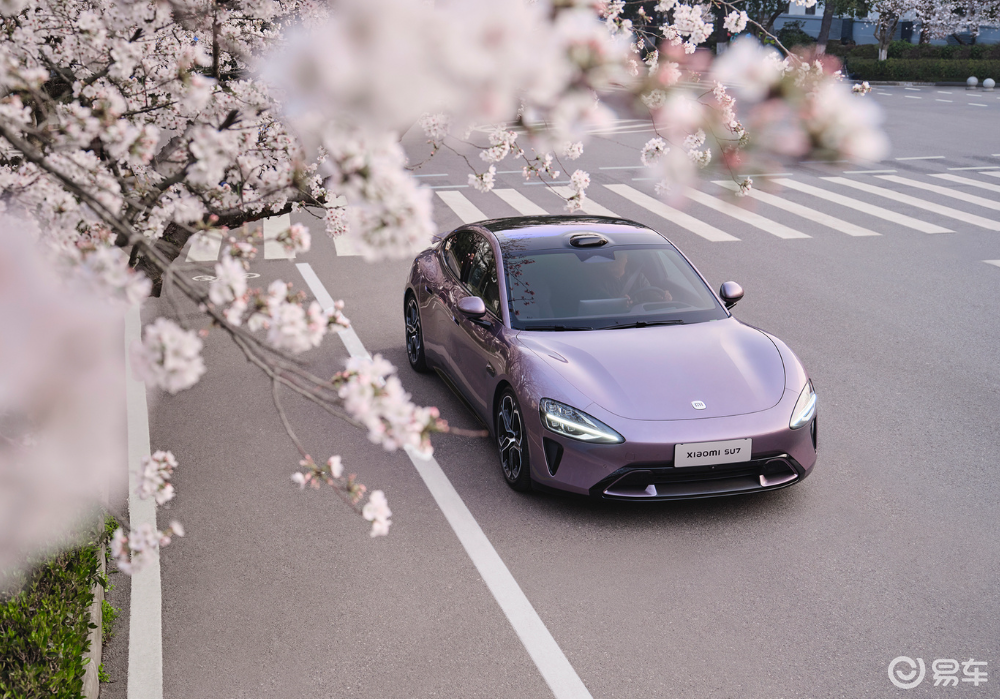su7: (398, 214, 827, 513)
